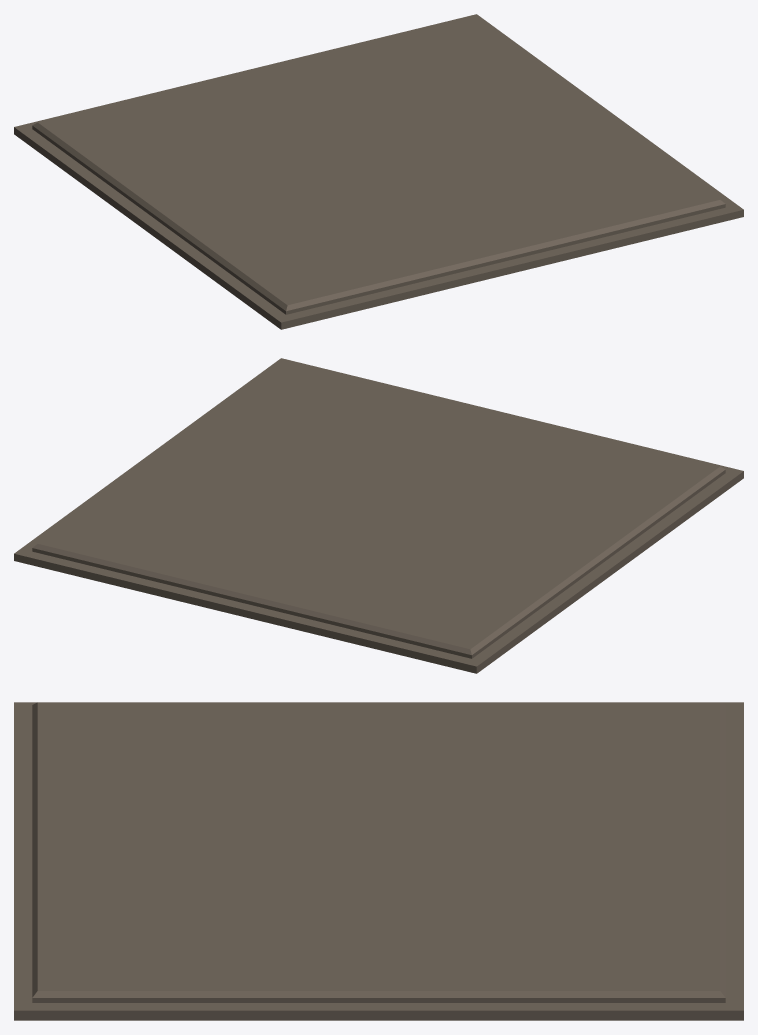
File: Floor.fbx
The picture shows the model from 3 angles, top to bottom: view 1: azimuth 30°, elevation 25°; view 2: azimuth 150°, elevation 25°; view 3: azimuth 270°, elevation 25°; orthographic projection. The views are drawn at different scales.
Visible parts, largest first — view 1: FloorCenter; view 2: FloorCenter; view 3: FloorCenter.
Part boxes in pixels (<box>): FloorCenter: <box>14,14,743,329</box>; FloorCenter: <box>14,358,743,673</box>; FloorCenter: <box>14,702,743,1020</box>.
Bounding box in the file's own units: 100 × 3 × 100.
